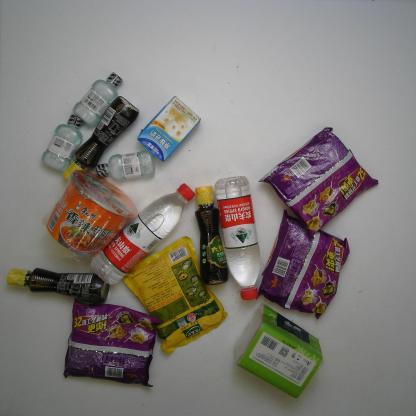Drink: (90, 182, 196, 286), (215, 175, 261, 301)
Instant Noodles: (257, 127, 379, 242), (256, 209, 350, 320), (63, 298, 164, 388), (46, 170, 138, 258)
Milk: (137, 96, 201, 162)
Personal Hygiene: (72, 72, 123, 127), (40, 114, 84, 172), (96, 150, 155, 182)
Seasoner: (121, 236, 228, 354), (62, 95, 140, 181), (6, 268, 110, 303), (194, 185, 230, 286)
Tissue: (233, 303, 324, 399)
